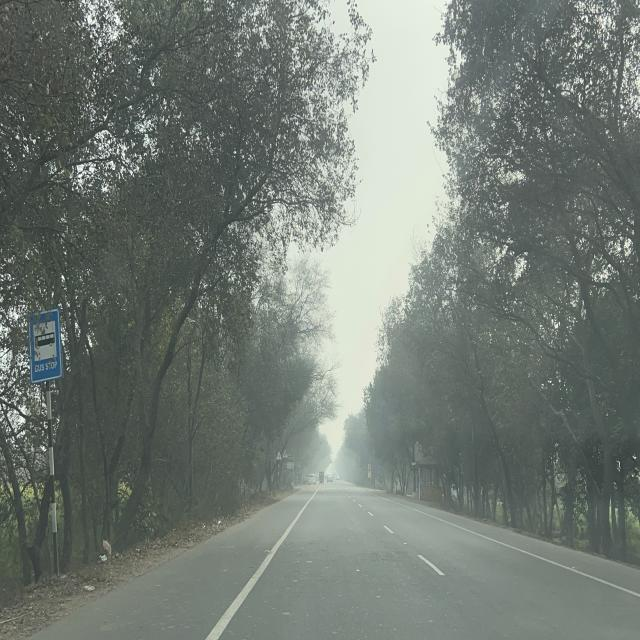INFORMATION: (27, 304, 64, 382)
